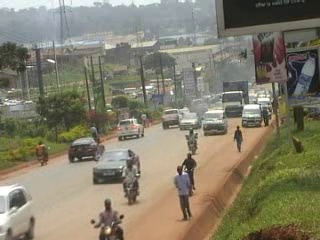Car: (0, 181, 40, 240), (91, 145, 140, 185), (68, 135, 105, 163), (111, 116, 145, 142), (178, 111, 202, 131), (176, 105, 189, 116)
Motorcycle: (87, 197, 130, 240), (120, 158, 142, 204), (183, 126, 202, 155), (32, 139, 50, 167)
